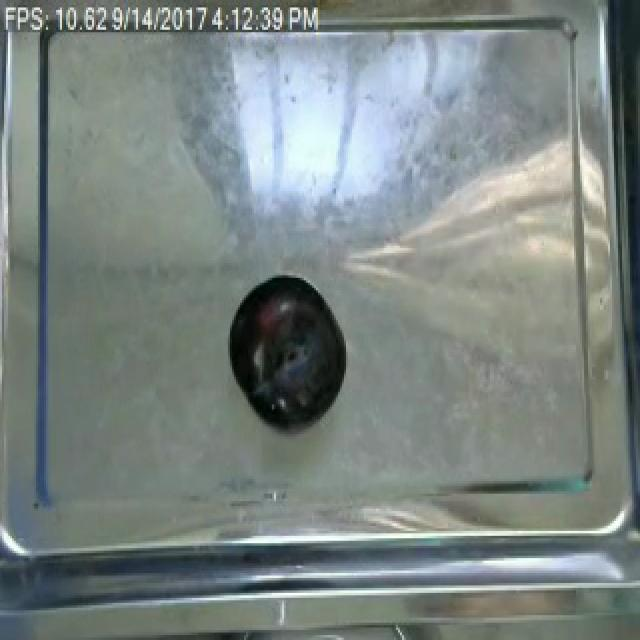Fruit: (222, 268, 350, 427)
